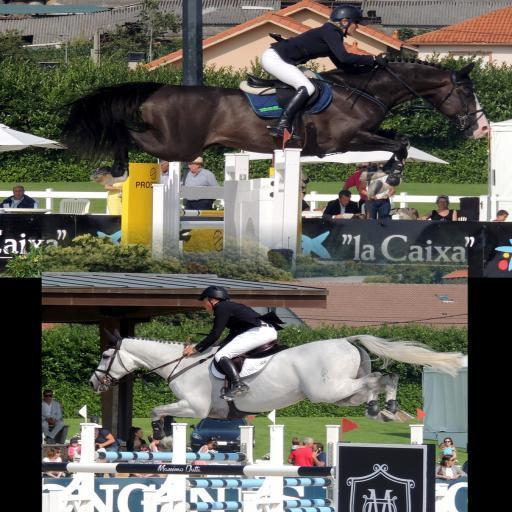horse: (30, 64, 492, 188), (88, 328, 467, 440)
